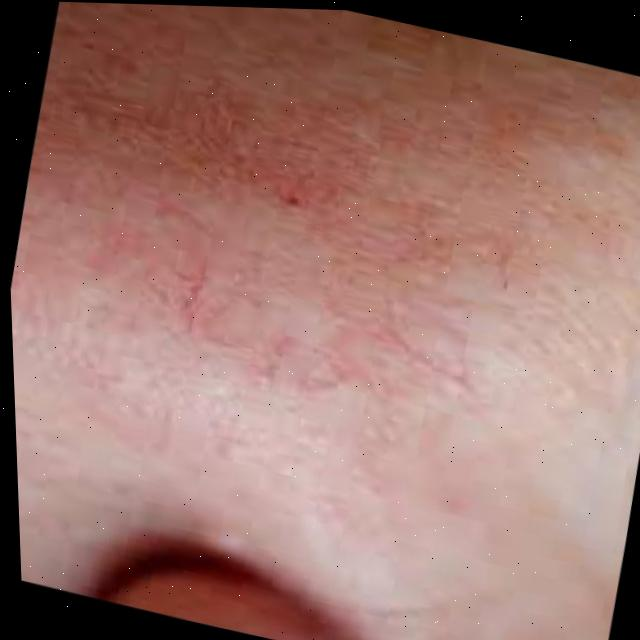Eczema: (75, 2, 493, 482)
